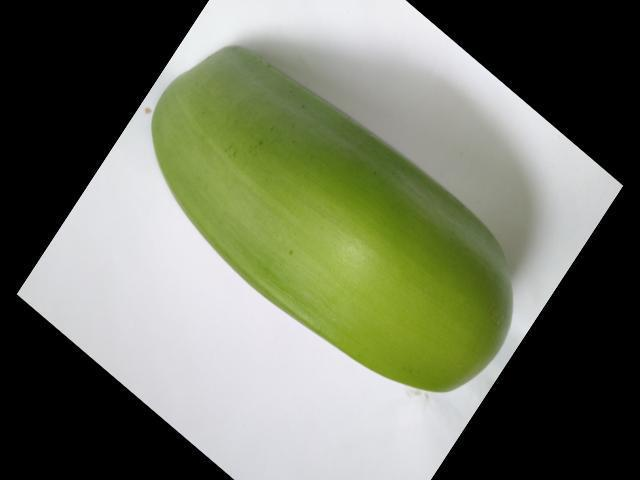freshunripe: (140, 34, 512, 397)
